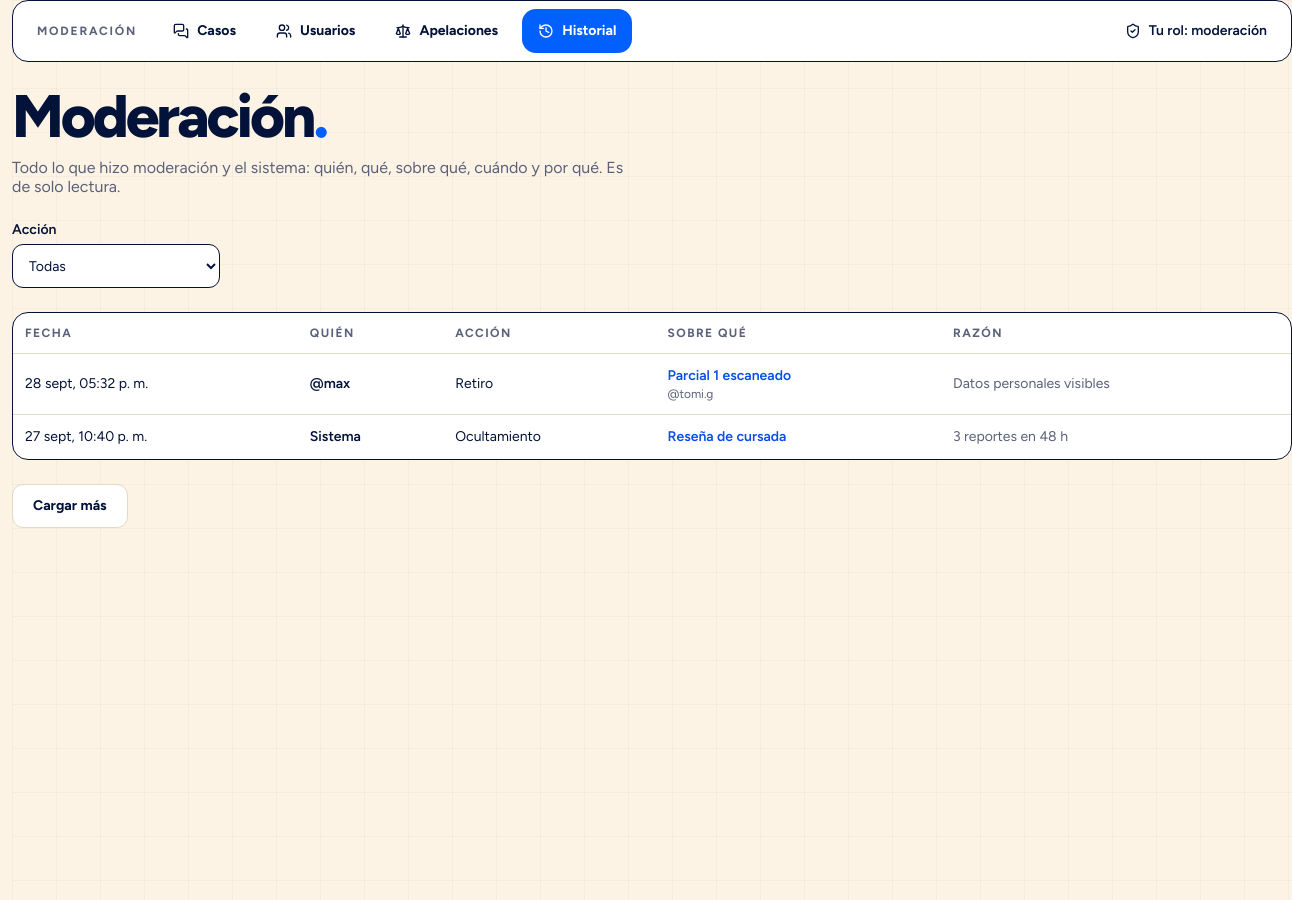
HistoryPanel › loads older records with the cursor
Click the button "Cargar más" at (70, 506), box [12, 484, 128, 528]
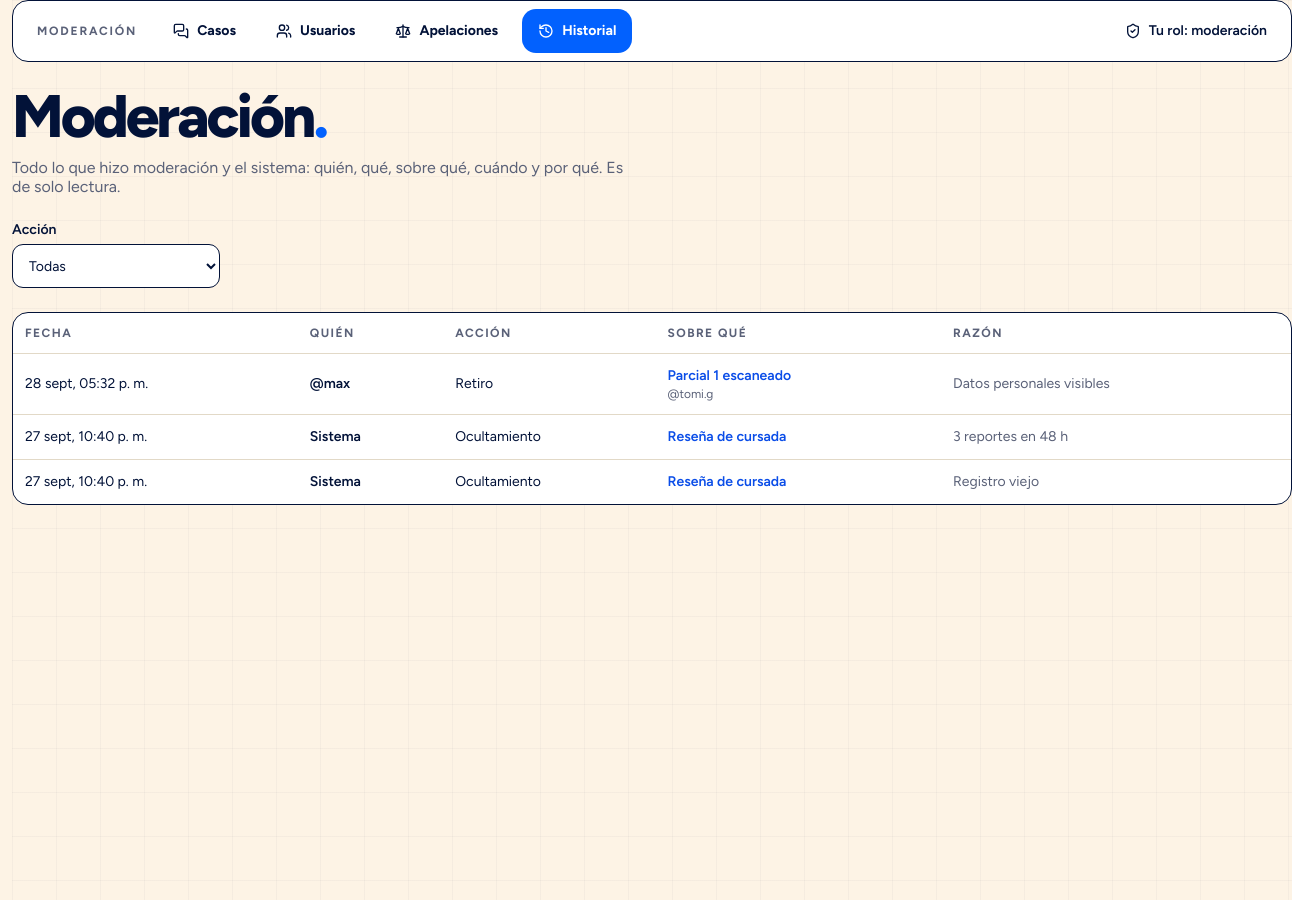
Now the text "Registro viejo" is shown, box [941, 460, 1291, 504]
Now the button "Cargar más" is gone
